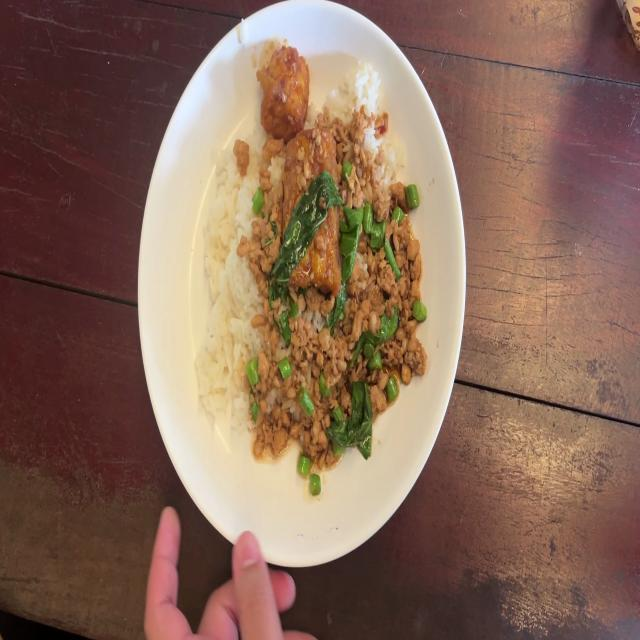01rice: (207, 145, 259, 426), (326, 51, 382, 124)
fried_tofo: (281, 134, 340, 290), (257, 52, 312, 134)
minced_pork: (258, 299, 426, 475), (339, 120, 425, 304), (261, 158, 280, 297)
stir_fried_basil: (204, 43, 428, 502)
